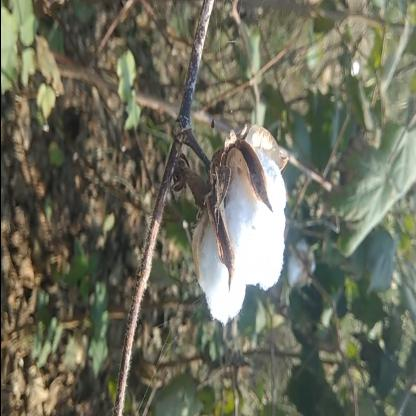cotton_ready: (158, 106, 290, 335)
